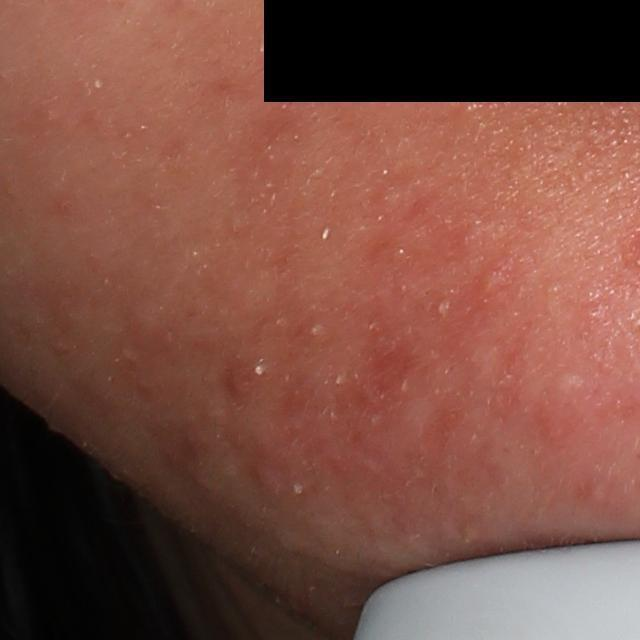comedo: (305, 324, 325, 337)
